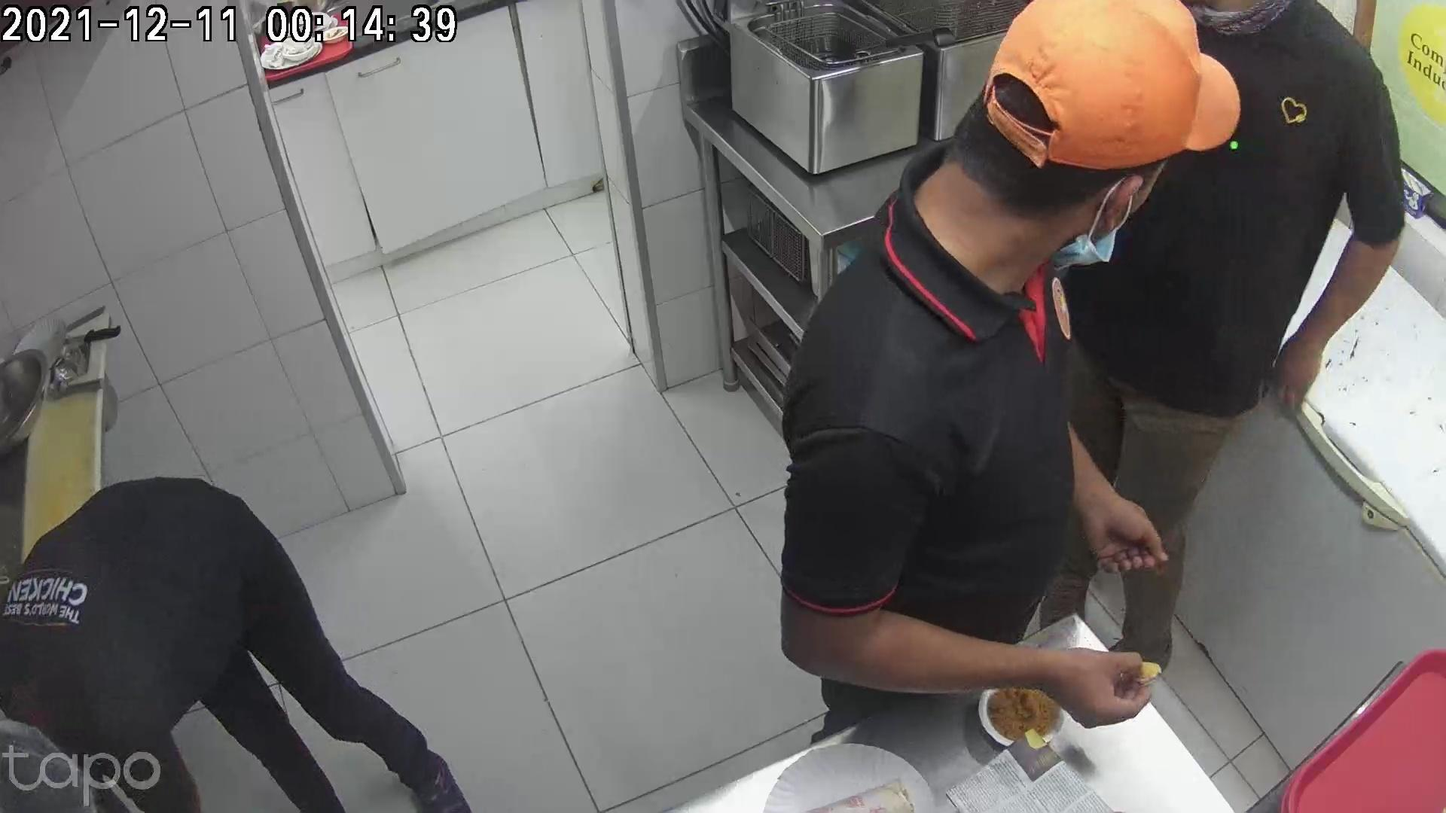gloves: (849, 598, 948, 749)
no_gloves: (1035, 585, 1116, 706)
